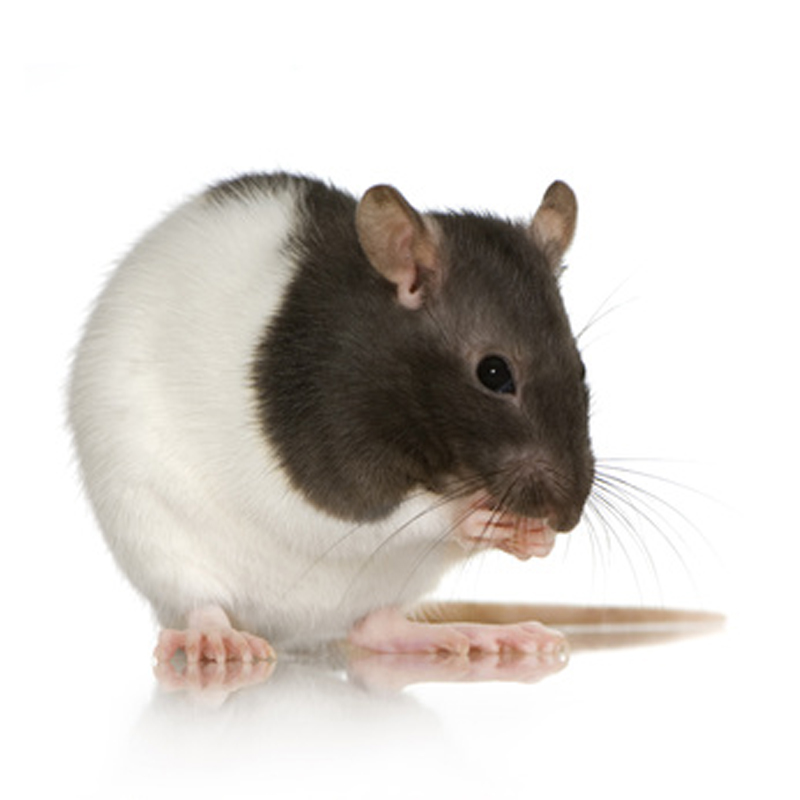rat: (57, 155, 659, 683)
